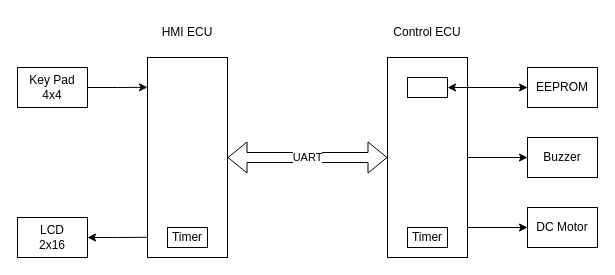
Some shapes in this 615 by 275 pixel diagram are drawn without their labels. The shapes that lost their labels are listed below. From the top down, each one's box as (x1, y1, x2, y2) in pixels, then its label:
(406, 76, 448, 98): I2C
(146, 56, 228, 258): MCU 1
(386, 56, 468, 258): MCU 2
